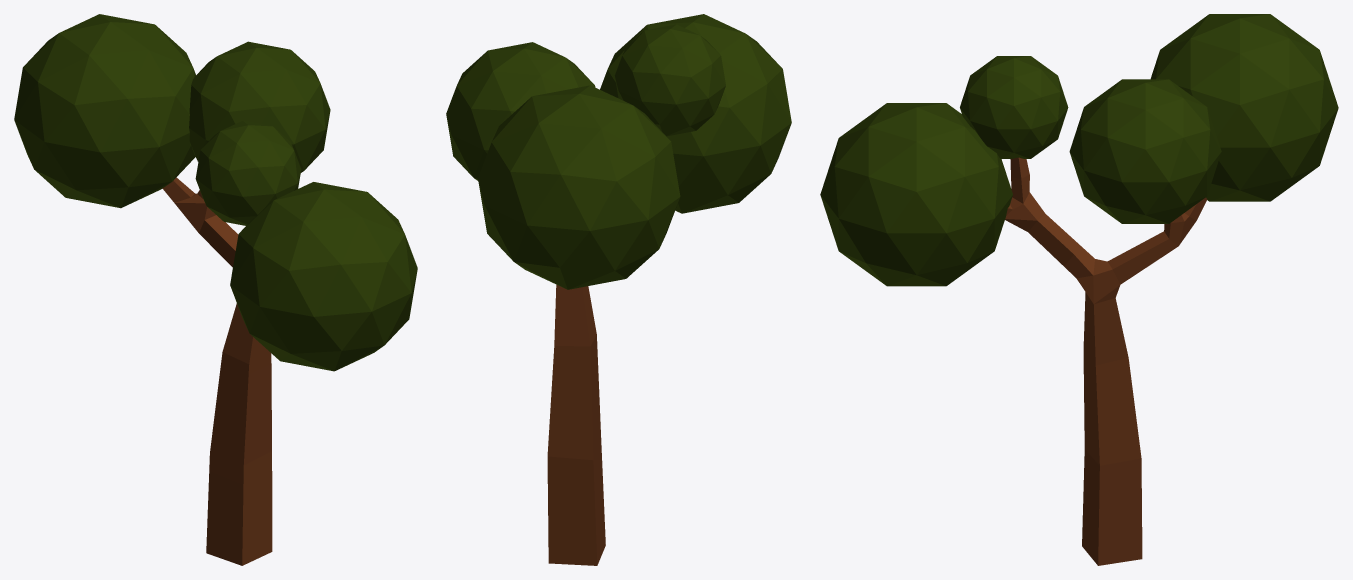
File: TEX_apple_tree.fbx
3 views of the same model, side by side, from view 1: azimuth 30°, elevation 25°; view 2: azimuth 150°, elevation 25°; view 3: azimuth 270°, elevation 25° (orthographic). The views are drawn at different scales.
Parts seen in each view (by area): view 1: F_apple_tree; view 2: F_apple_tree; view 3: F_apple_tree.
Part boxes in pixels (x1,y1,x2,y2): F_apple_tree: (14, 14, 417, 565); F_apple_tree: (446, 14, 791, 565); F_apple_tree: (820, 14, 1338, 565).
Bounding box in the file's own units: 128 × 252 × 236.
Materials: 1 (1 with a texture image).
